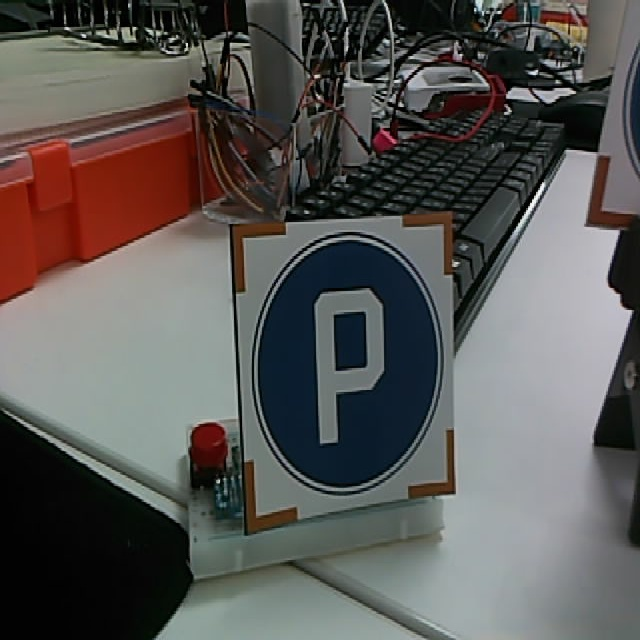parking: (229, 212, 456, 535)
